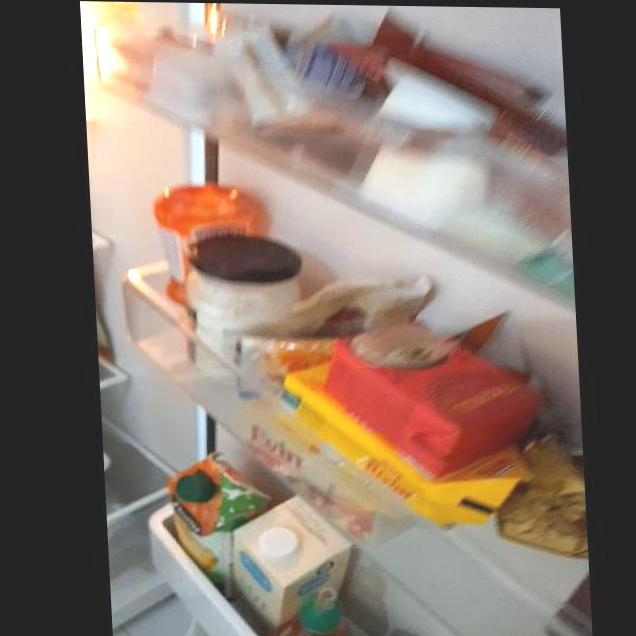cream: (327, 324, 547, 465)
juice: (169, 456, 235, 569)
milk: (238, 497, 347, 620)
